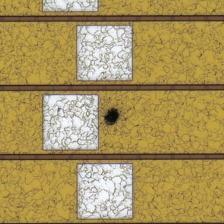PARTICLE: (104, 109, 120, 125)
